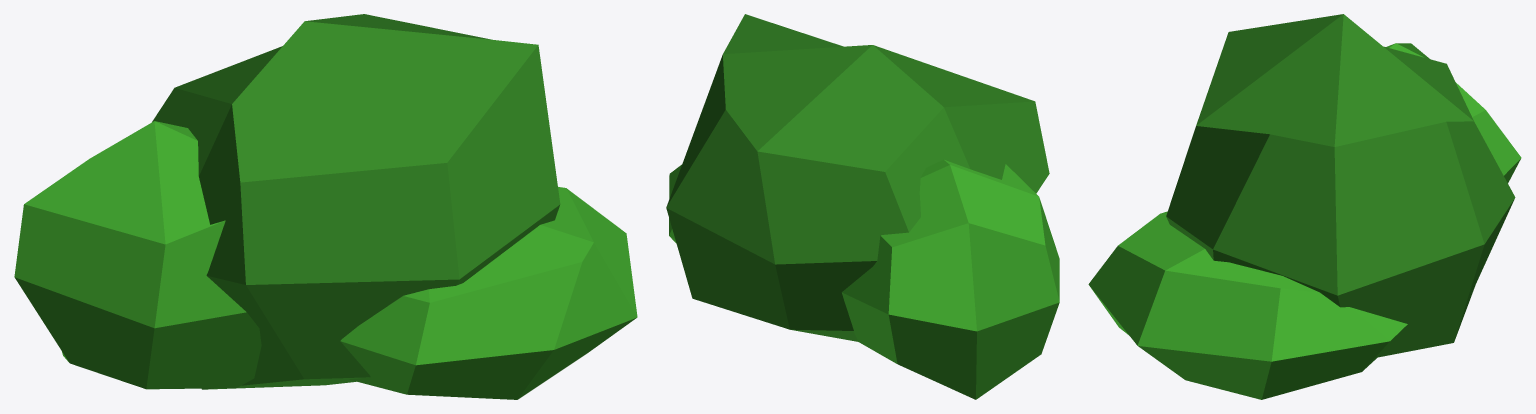
Rendered from shrubbery1.fbx.
3 views of the same model, side by side, from view 1: azimuth 30°, elevation 25°; view 2: azimuth 150°, elevation 25°; view 3: azimuth 270°, elevation 25° (orthographic). The views are drawn at different scales.
Visible parts, largest first — view 1: Shrubbery 1; view 2: Shrubbery 1; view 3: Shrubbery 1.
Part boxes in pixels (x1,y1,x2,y2): Shrubbery 1: (14, 14, 637, 399); Shrubbery 1: (666, 14, 1059, 399); Shrubbery 1: (1088, 14, 1521, 399).
Bounding box in the file's own units: 211 × 136 × 165.
